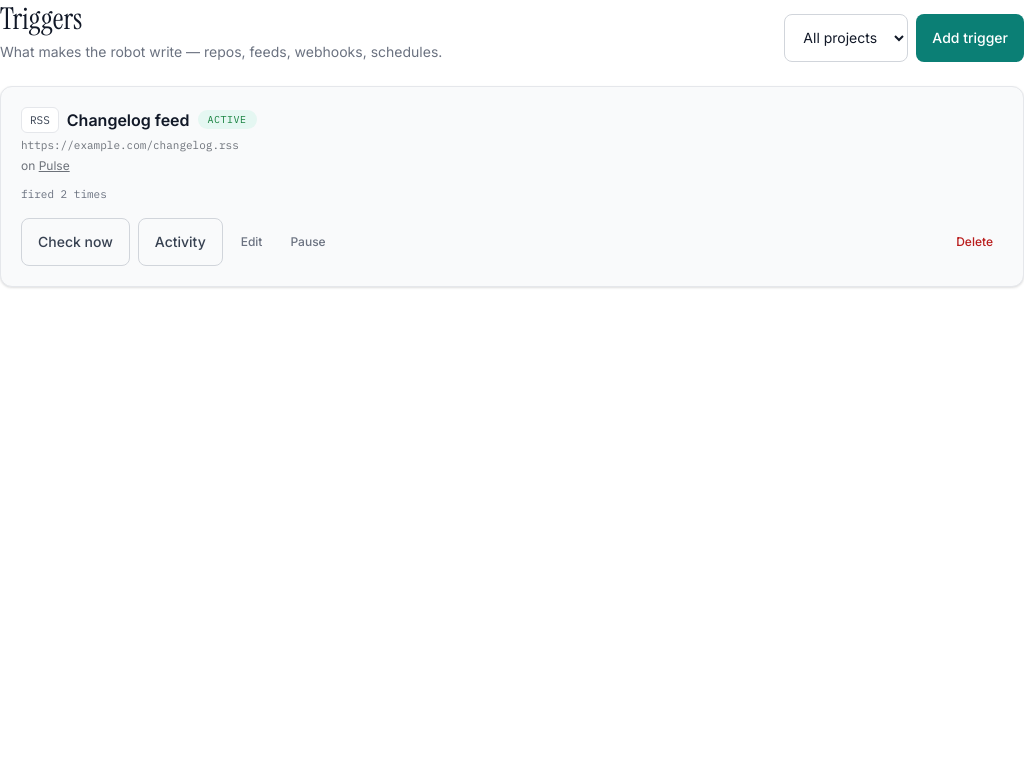
it: the builder › keeps what was typed when the kind is switched and switched back
Click the button "Add trigger" at (970, 38), box [916, 14, 1023, 62]
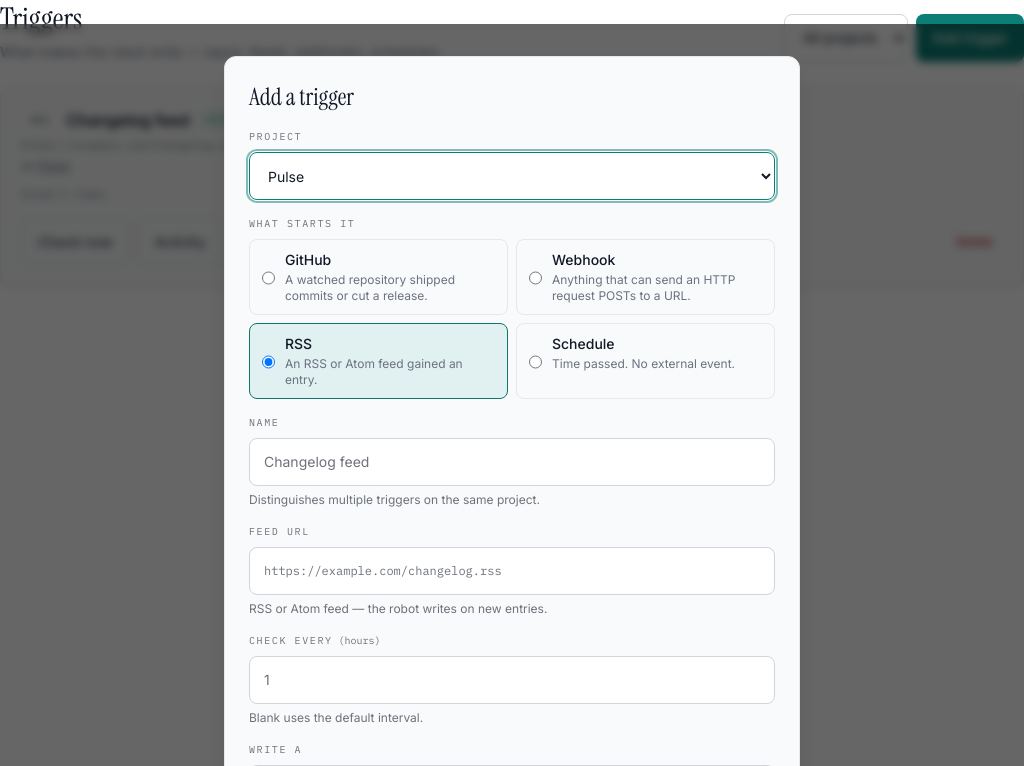
Type "https://example.com/f.xml" into the field labelled "Feed URL" at (512, 571), box [249, 547, 775, 595]
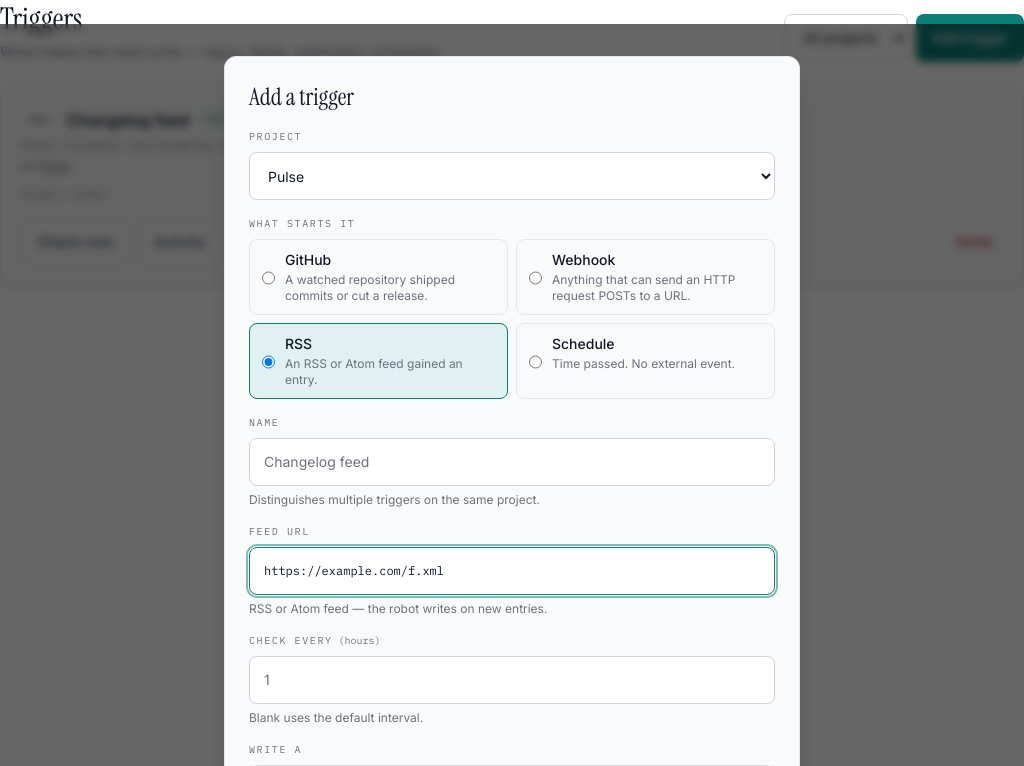
Click the radio button labelled "Schedule Time passed. No external event." at (536, 362), box [529, 336, 542, 388]
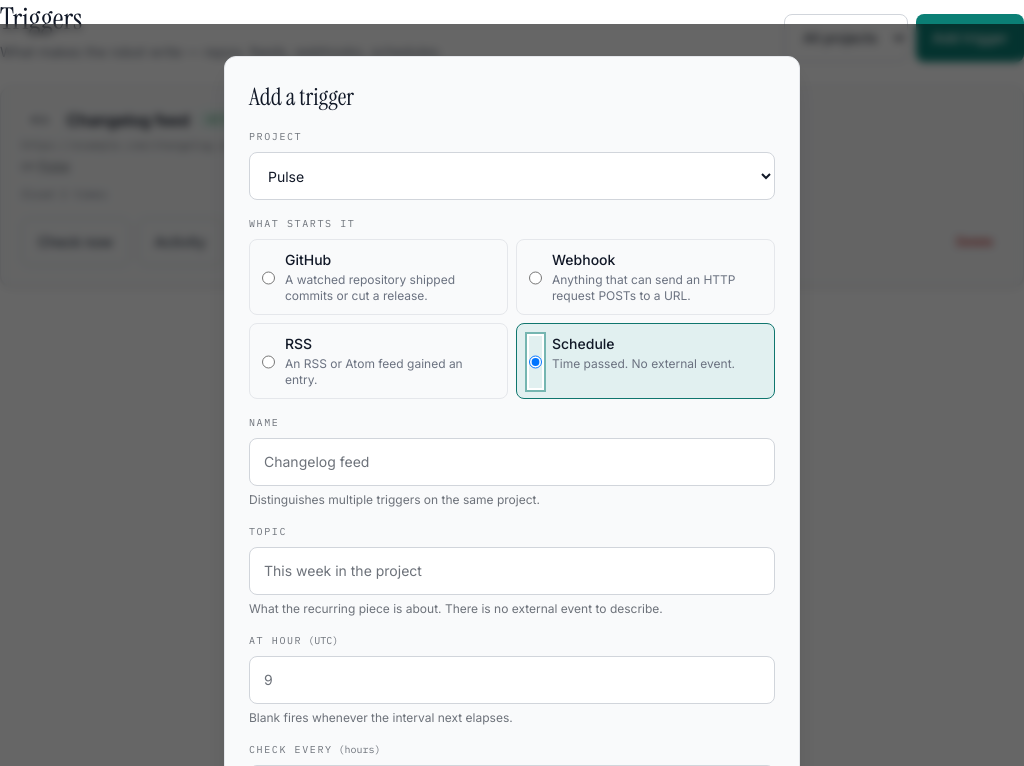
Click the radio button labelled "RSS An RSS or Atom feed gained an entry." at (268, 362), box [262, 336, 275, 388]
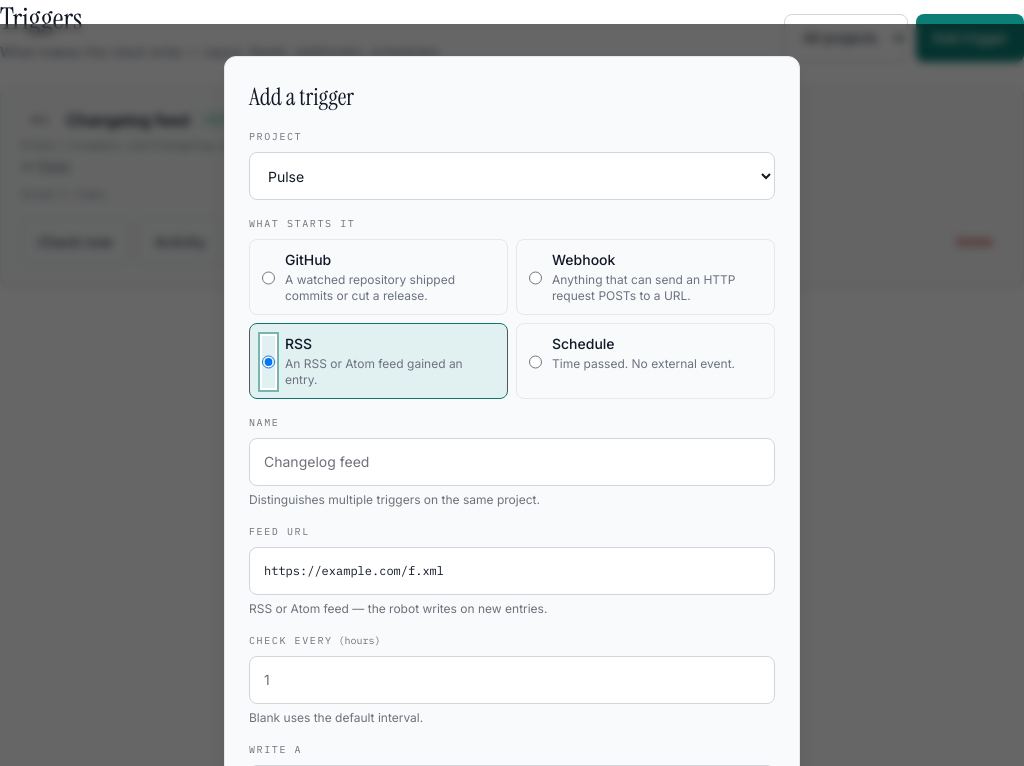
Expected: the field labelled "Feed URL" holds "https://example.com/f.xml", [249, 547, 775, 595]
